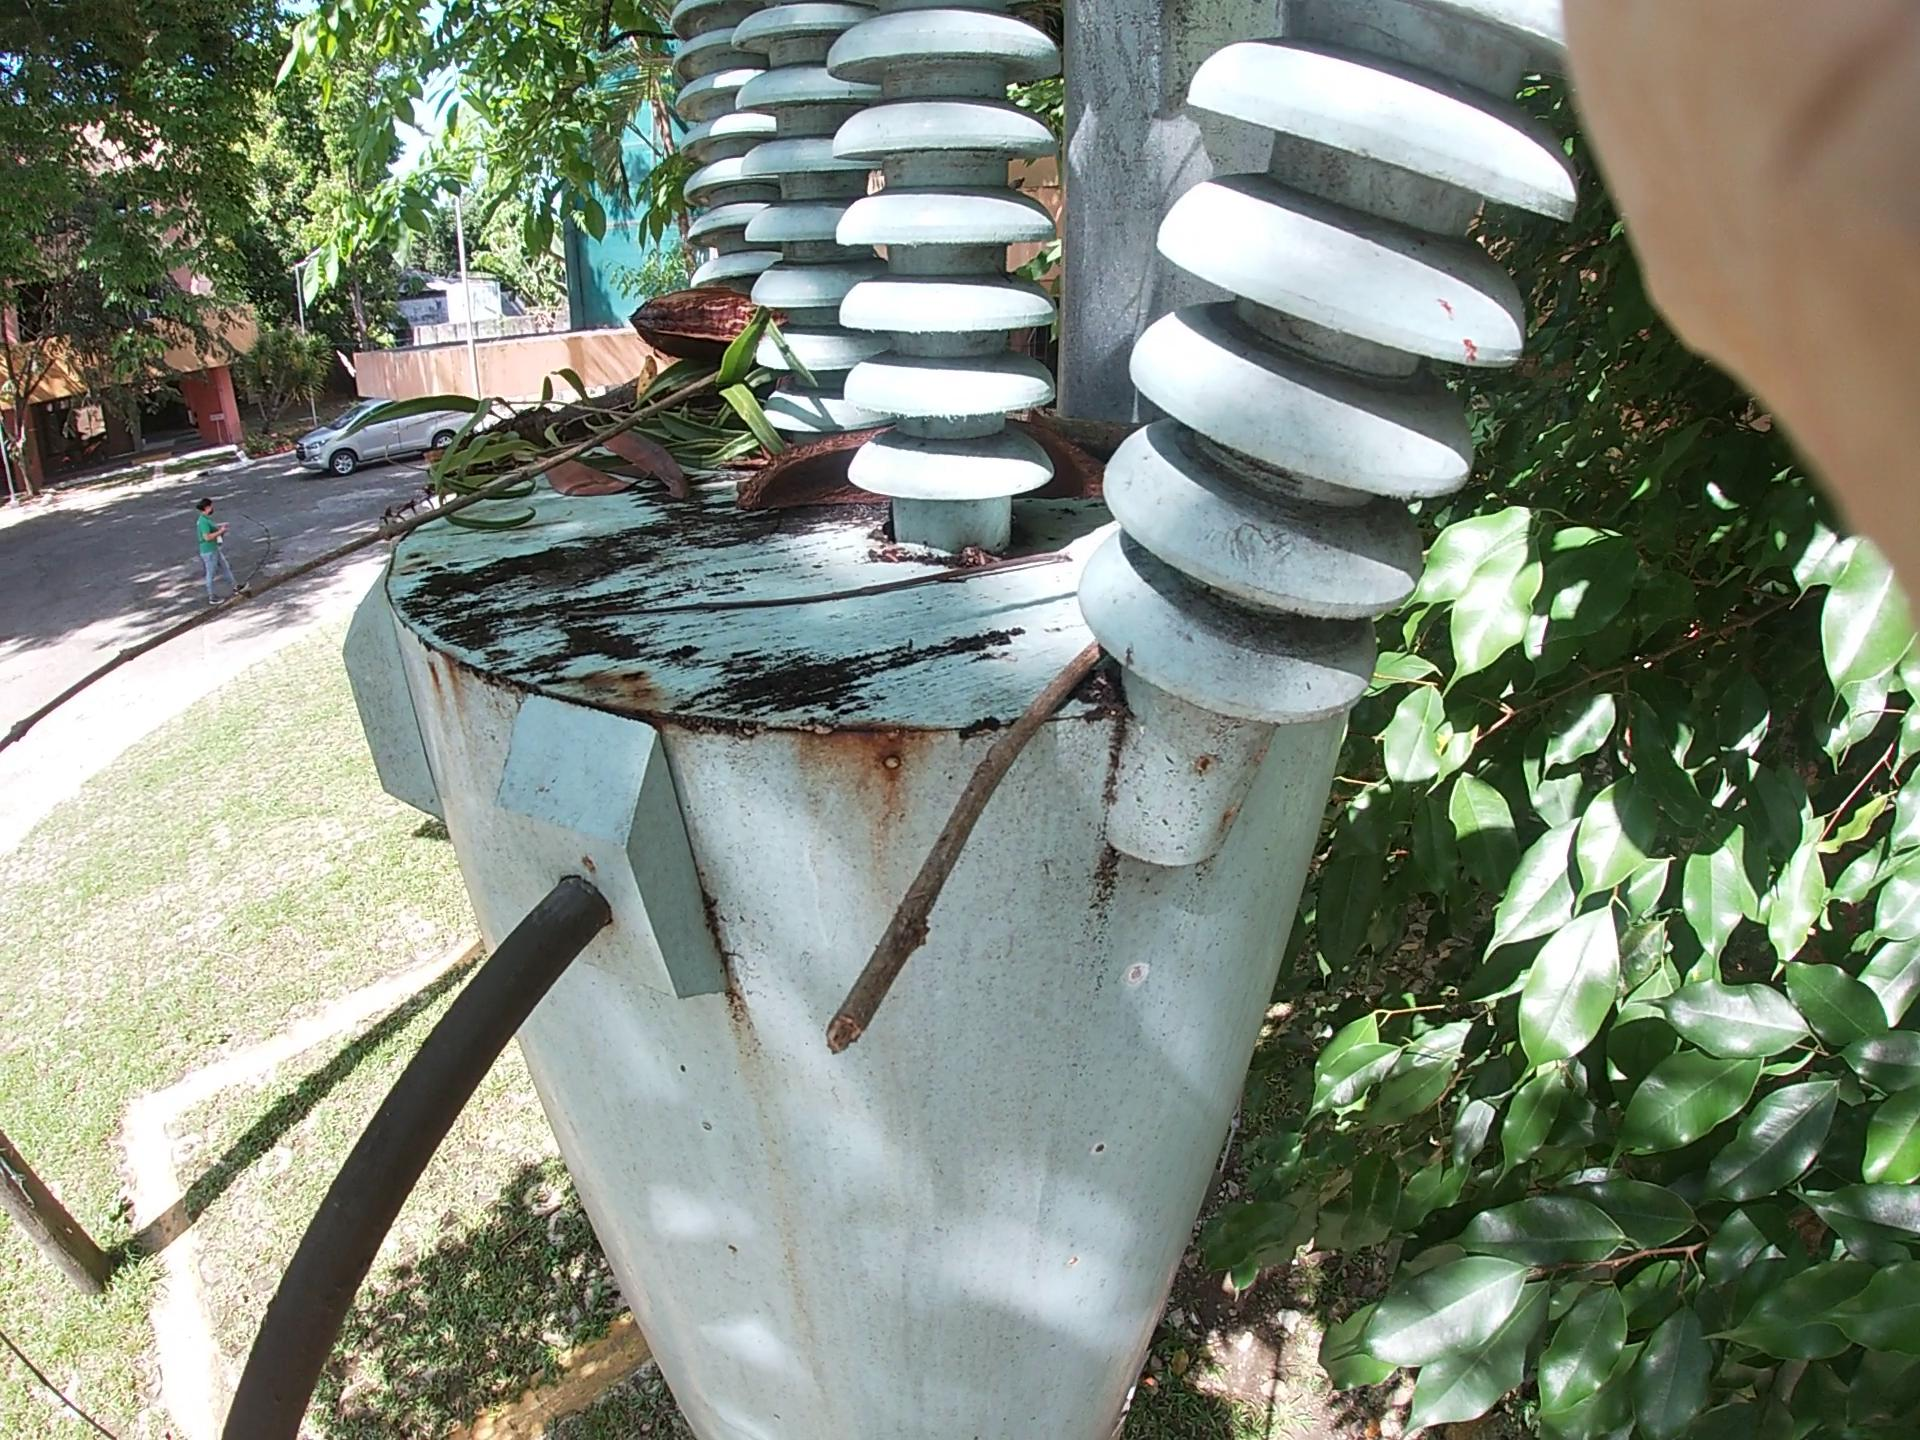branch with leaves: (457, 175, 1160, 455)
leaf: (452, 393, 735, 513)
mahogany fruit: (712, 384, 1144, 546), (522, 257, 828, 446)
tree branch: (91, 303, 844, 672), (677, 620, 1099, 1050)
